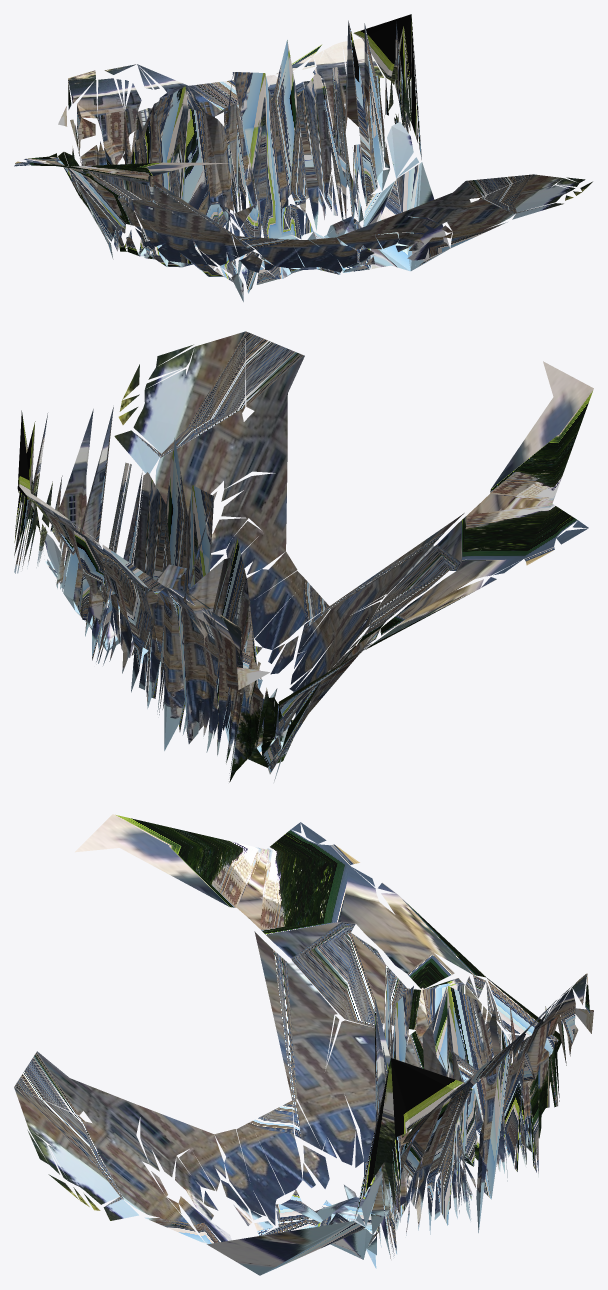
File: castle_mesh.obj
3 renders of one model, top to bottom at view 1: azimuth 30°, elevation 25°; view 2: azimuth 150°, elevation 25°; view 3: azimuth 270°, elevation 25°, orthographic. The views are drawn at different scales.
Bounding box in the file's own units: 7.06 × 3.64 × 6.07.
Materials: 1 (1 with a texture image).
